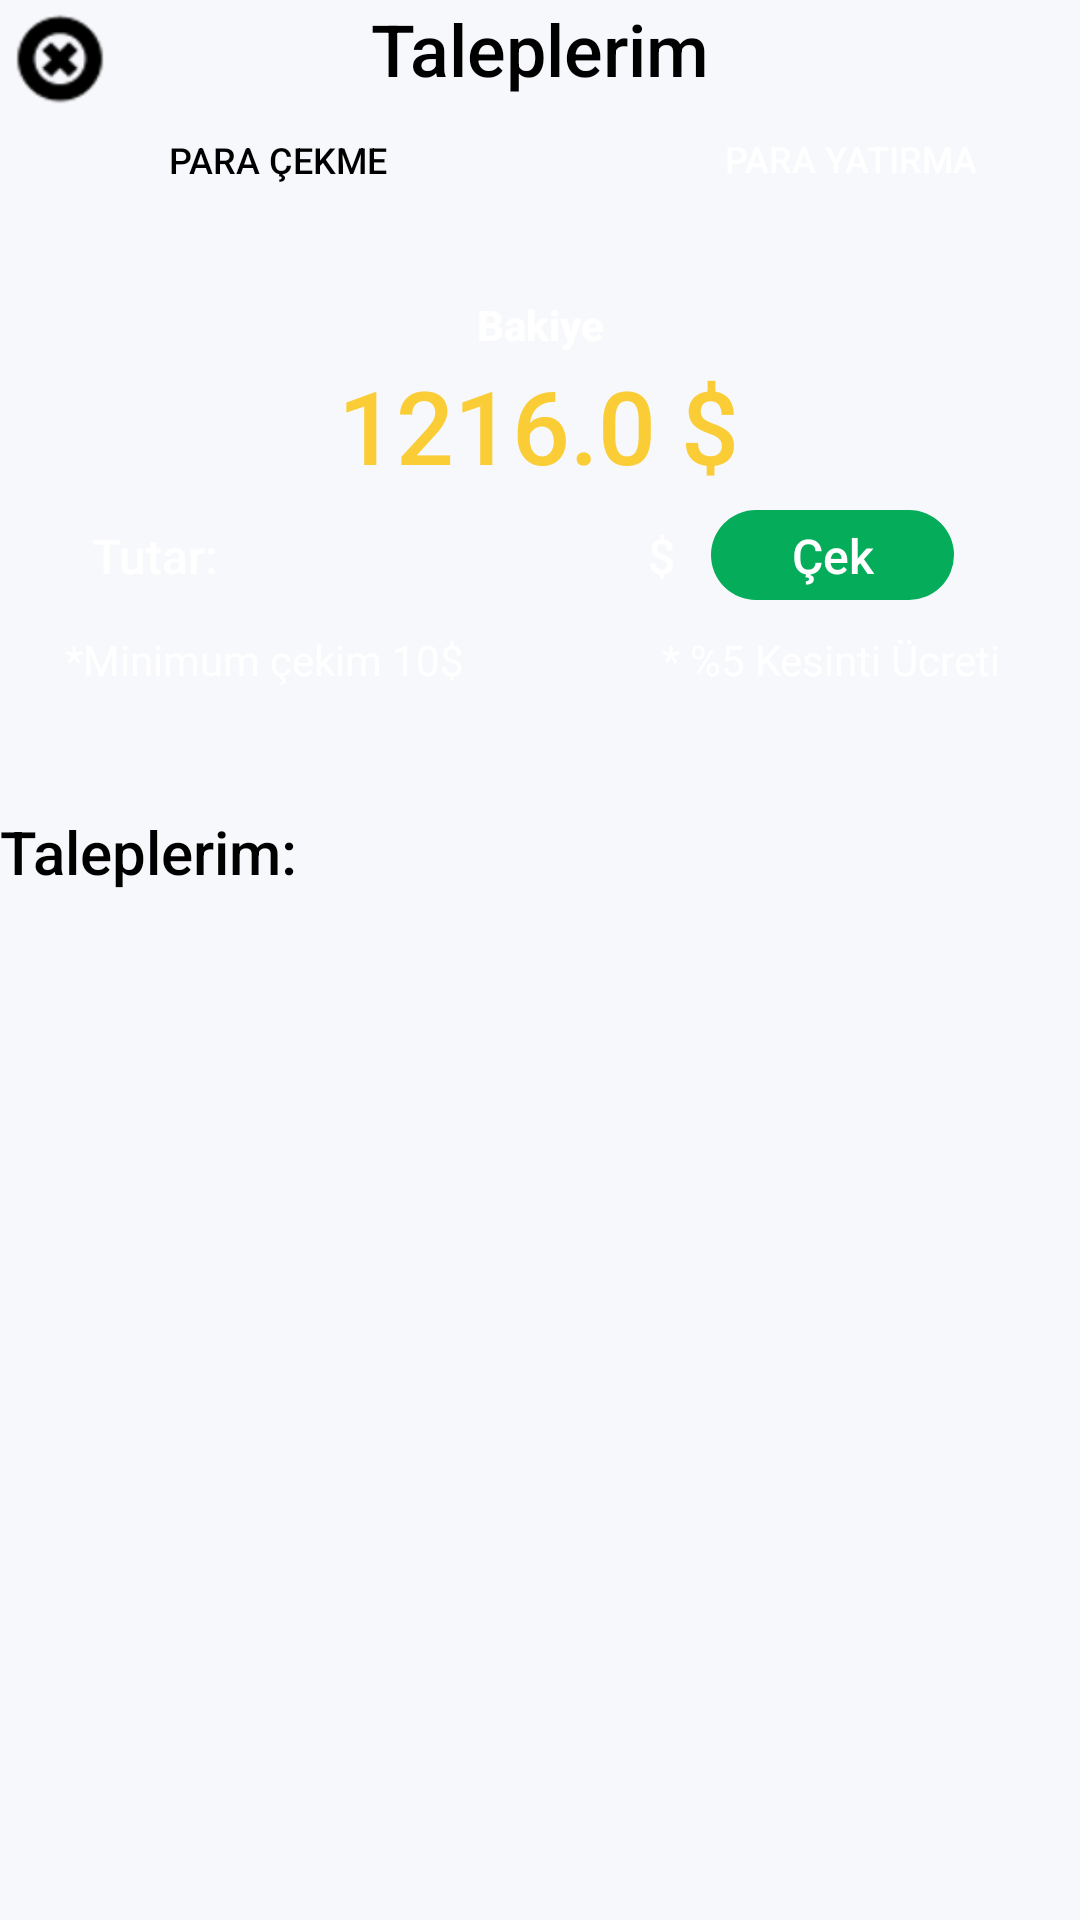

Icon click points for this 1080w x 1920h phone screenshot, format point (x, y):
notification clear all: point (60, 59)
